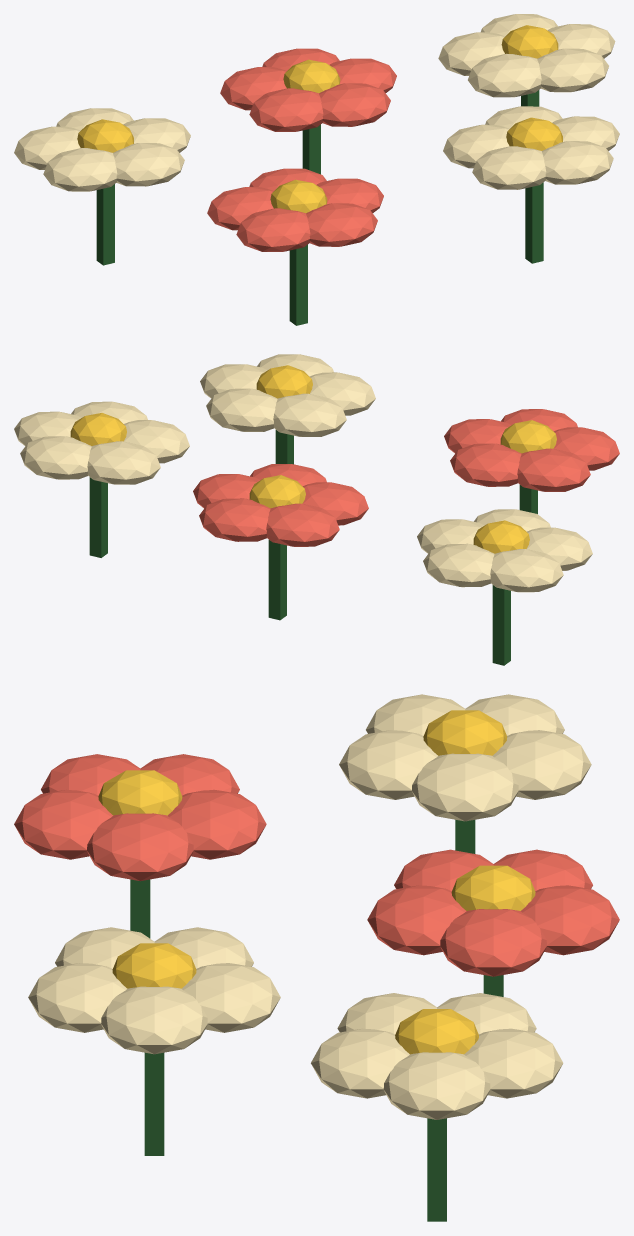
Rendered from flowerbed.glb.
The picture shows the model from 3 angles, top to bottom: view 1: azimuth 30°, elevation 25°; view 2: azimuth 150°, elevation 25°; view 3: azimuth 270°, elevation 25°; orthographic projection. The views are drawn at different scales.
Visible parts, largest first — view 1: Flowerbed; view 2: Flowerbed; view 3: Flowerbed.
Part boxes in pixels (<box>): Flowerbed: <box>14,14,619,325</box>; Flowerbed: <box>14,354,619,665</box>; Flowerbed: <box>14,694,619,1221</box>.
Size of the model in its own units: 3.41 by 0.8 by 2.14.
